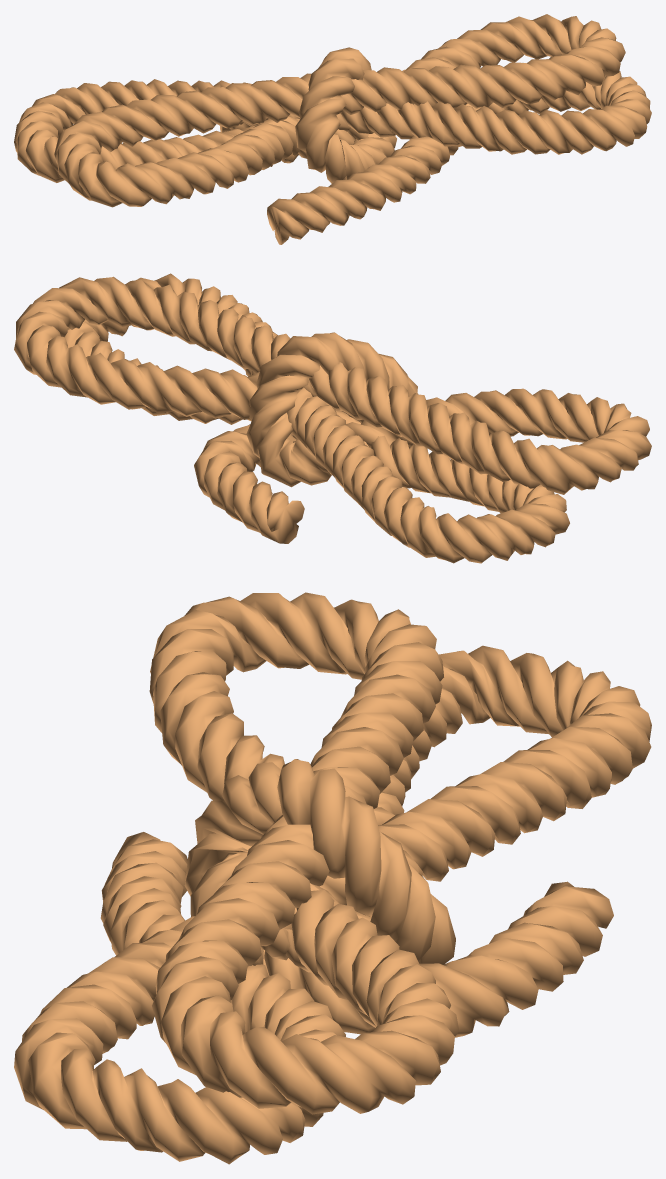
Rendered from RopeForFBX.fbx.
The picture shows the model from 3 angles, top to bottom: view 1: azimuth 30°, elevation 25°; view 2: azimuth 150°, elevation 25°; view 3: azimuth 270°, elevation 25°; orthographic projection. The views are drawn at different scales.
Visible parts, largest first — view 1: Rope; view 2: Rope; view 3: Rope.
Boxes of the visible parts, left/top/right/bottom form: Rope: left=14, top=14, right=651, bottom=244; Rope: left=14, top=273, right=651, bottom=563; Rope: left=14, top=592, right=651, bottom=1164.
Size of the model in its own units: 954 by 215 by 539.
